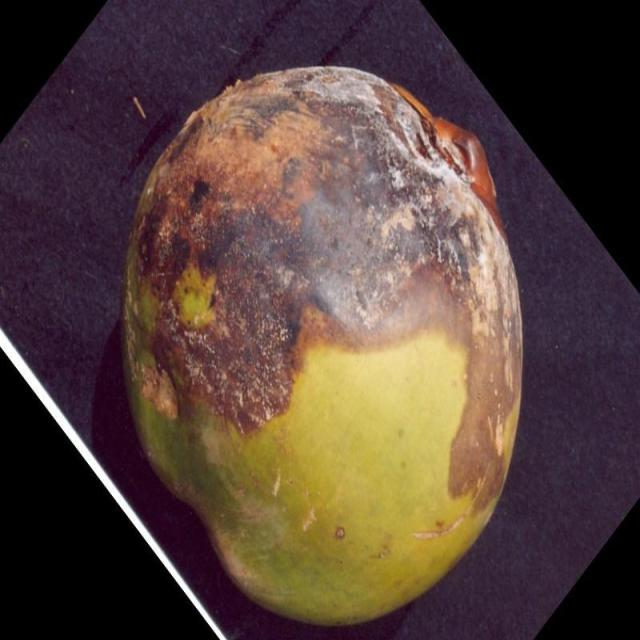damaged: (124, 68, 522, 624)
